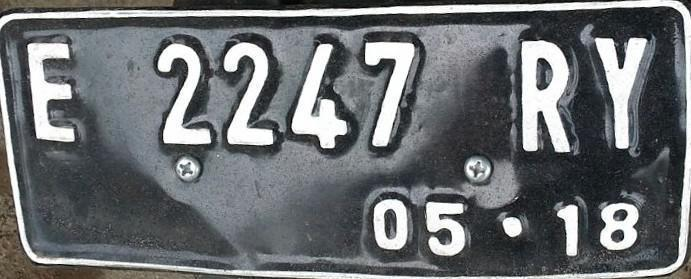2: (150, 31, 220, 149), (219, 28, 283, 152)
4: (284, 30, 353, 155)
7: (352, 30, 424, 159)
E: (22, 31, 85, 149)
R: (513, 31, 578, 158)
Y: (578, 20, 659, 160)
